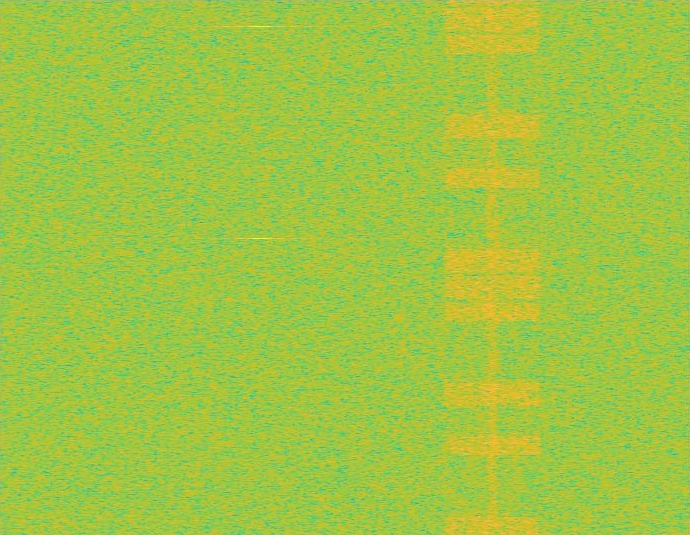DSSS: (486, 0, 500, 534)
LTE: (441, 0, 544, 534)
Radar: (253, 0, 267, 534)
